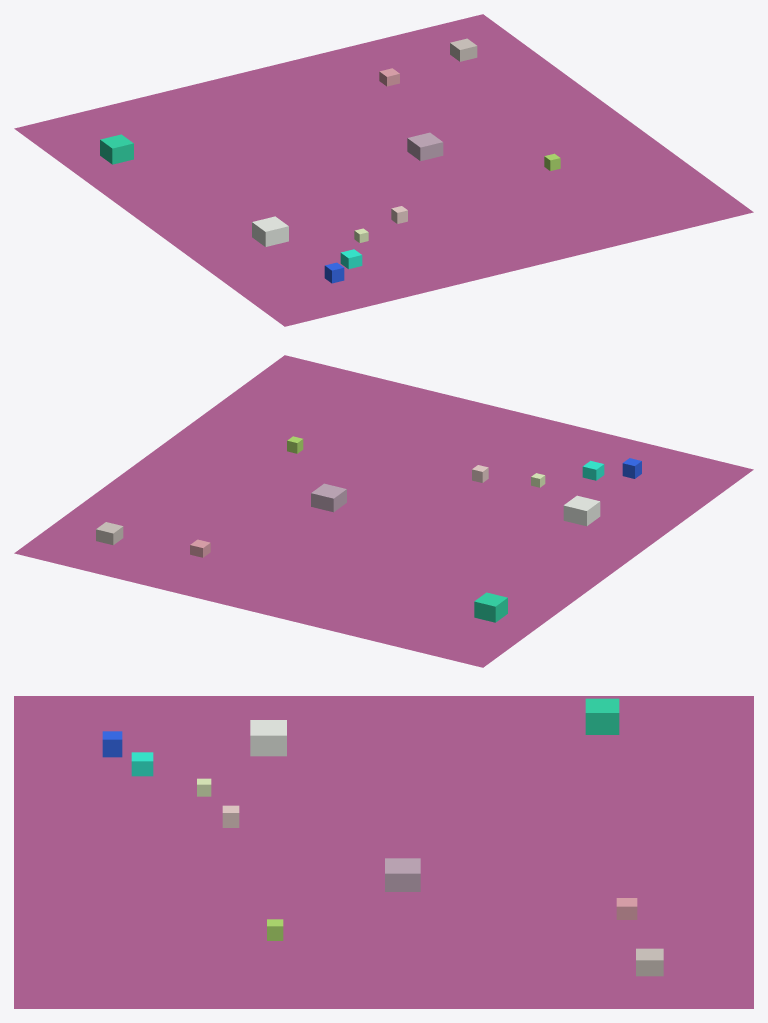
The picture shows the model from 3 angles, top to bottom: view 1: azimuth 30°, elevation 25°; view 2: azimuth 150°, elevation 25°; view 3: azimuth 270°, elevation 25°; orthographic projection. The views are drawn at different scales.
Parts seen in each view (by area): view 1: Chunk_-1_1; view 2: Chunk_-1_1; view 3: Chunk_-1_1.
Boxes of the visible parts, <box> form: Chunk_-1_1: <box>14,14,753,326</box>; Chunk_-1_1: <box>14,355,753,667</box>; Chunk_-1_1: <box>14,696,753,1008</box>.
Bounding box in the file's own units: 1500 × 80.15 × 1500.
